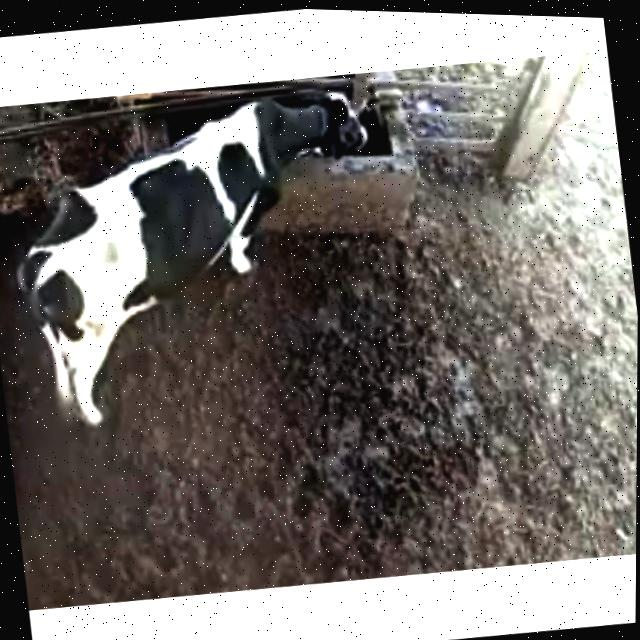drink: (237, 67, 386, 182)
